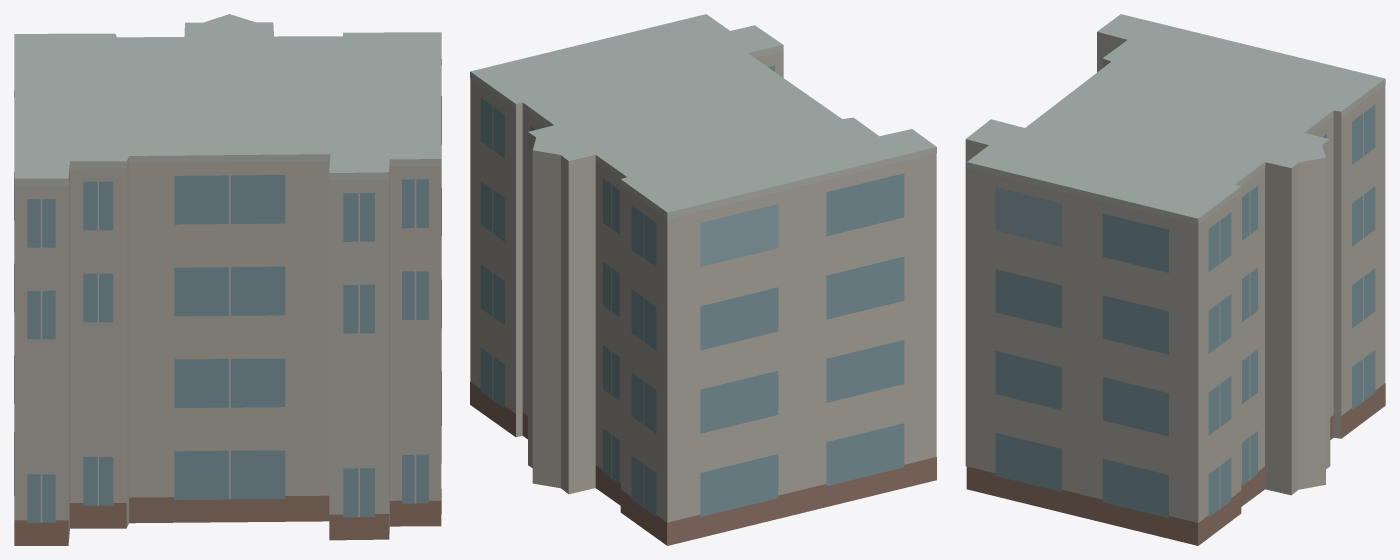
File: survey-upis-32706616.glb
The picture shows the model from 3 angles, left to right: view 1: azimuth 30°, elevation 25°; view 2: azimuth 150°, elevation 25°; view 3: azimuth 270°, elevation 25°; orthographic projection. The views are drawn at different scales.
Parts seen in each view (by area): view 1: survey-upis-32706616.tmp; view 2: survey-upis-32706616.tmp; view 3: survey-upis-32706616.tmp.
Boxes of the visible parts, <box> form: survey-upis-32706616.tmp: <box>14,14,441,545</box>; survey-upis-32706616.tmp: <box>470,14,936,545</box>; survey-upis-32706616.tmp: <box>965,14,1385,545</box>.
Bounding box in the file's own units: 17.05 × 12.7 × 14.78.
